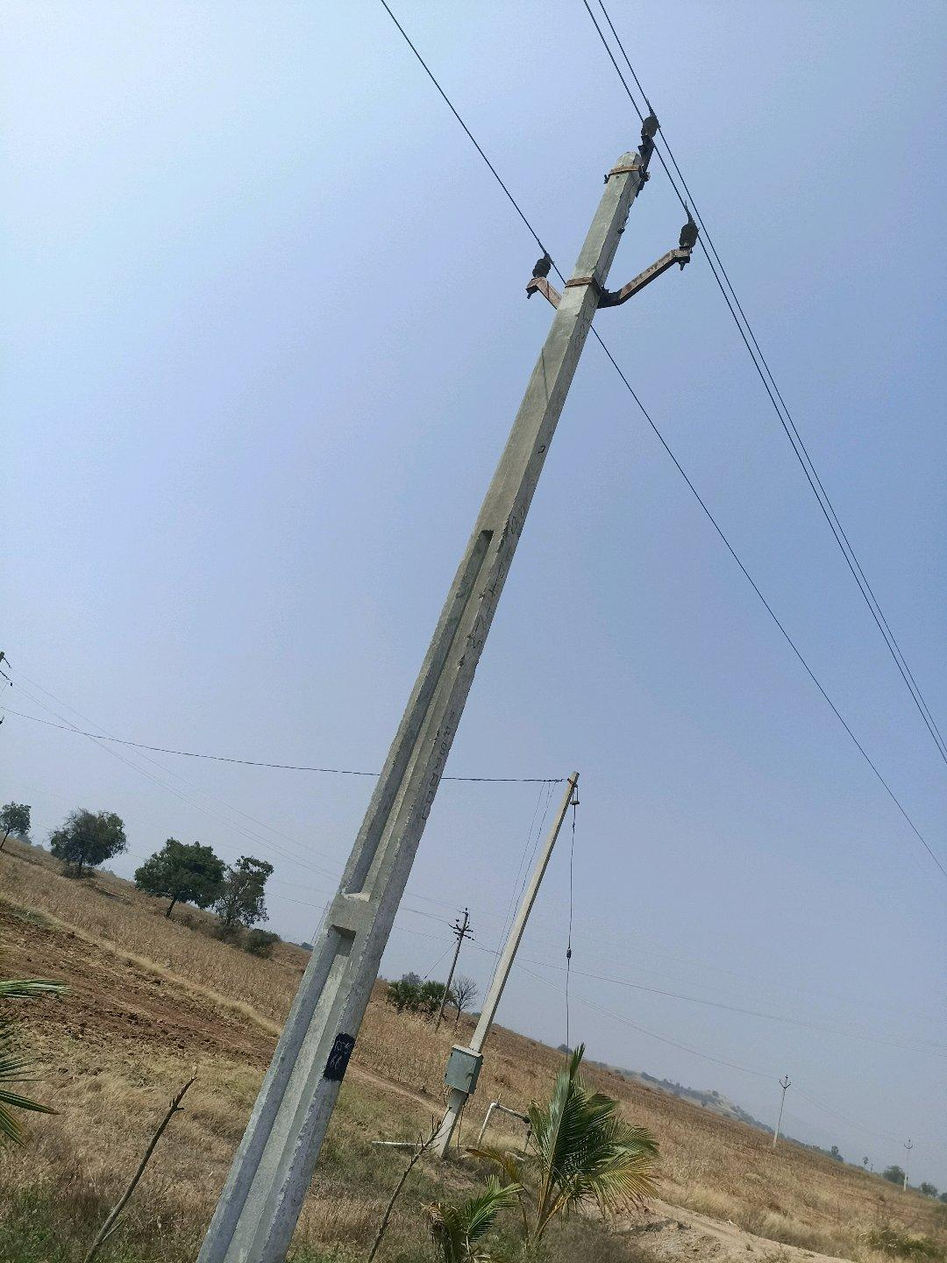{"0" "insulator", "1" "pole", "2" "crossarm", "3" "conductor", "4" "street_: (197, 112, 695, 1262), (530, 261, 552, 295)
